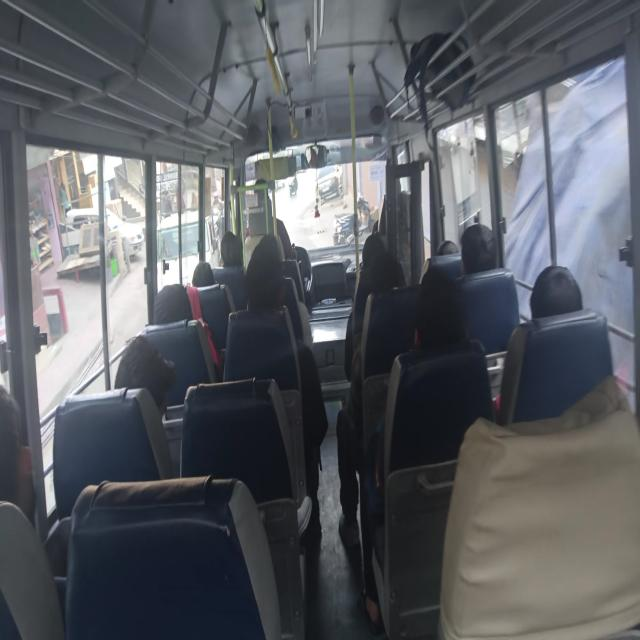person: (0, 402, 52, 560), (414, 283, 476, 369), (525, 268, 584, 334), (126, 340, 177, 408), (154, 265, 191, 342), (459, 231, 501, 292), (365, 255, 410, 310), (245, 260, 286, 316), (357, 229, 394, 279), (205, 226, 252, 261), (188, 258, 227, 297), (250, 248, 289, 277), (265, 235, 290, 268), (436, 234, 457, 260)
